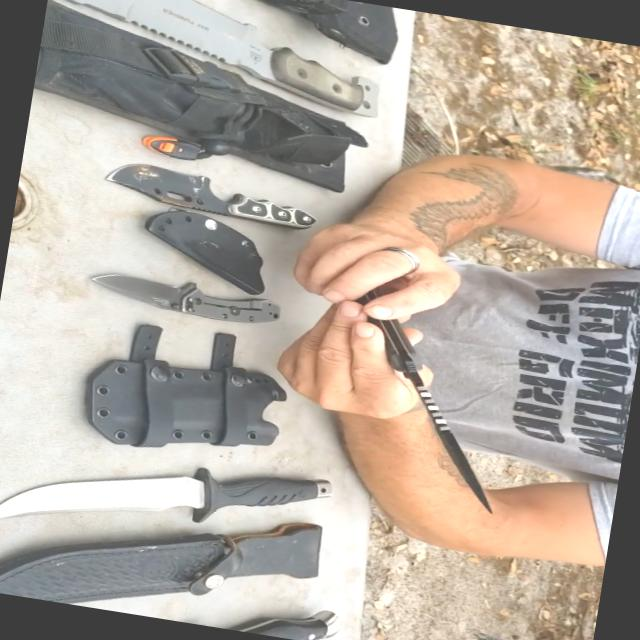knife: (266, 269, 546, 506), (0, 428, 348, 587), (33, 0, 401, 142), (88, 142, 332, 248), (84, 254, 300, 357)
